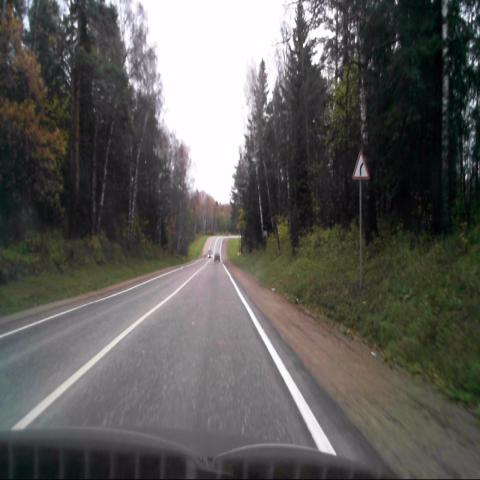1_11: (352, 151, 370, 179)
